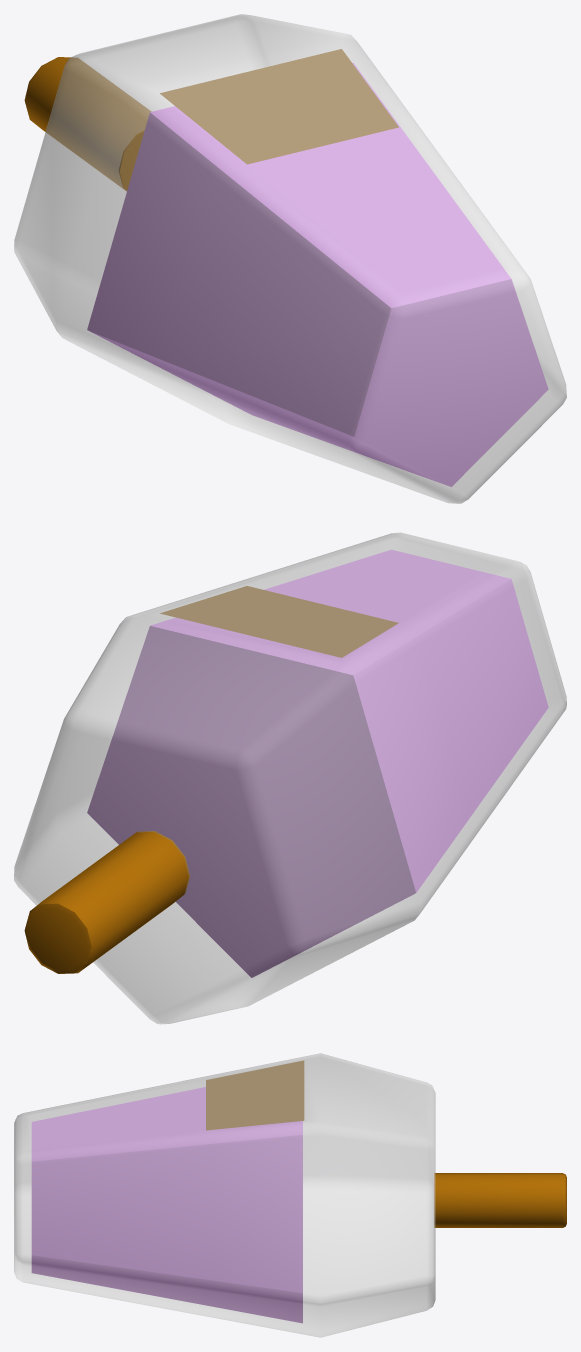
The model's file is Bottled Lup Binet.fbx.
3 renders of one model, top to bottom at view 1: azimuth 30°, elevation 25°; view 2: azimuth 150°, elevation 25°; view 3: azimuth 270°, elevation 25°, orthographic. The views are drawn at different scales.
Visible parts, largest first — view 1: Bottled Lup Binet; view 2: Bottled Lup Binet; view 3: Bottled Lup Binet.
Part boxes in pixels (x1,y1,x2,y2): Bottled Lup Binet: [14, 14, 566, 503]; Bottled Lup Binet: [14, 532, 566, 1024]; Bottled Lup Binet: [14, 1053, 566, 1337].
Size of the model in its own units: 29.81 by 28.6 by 57.69.
